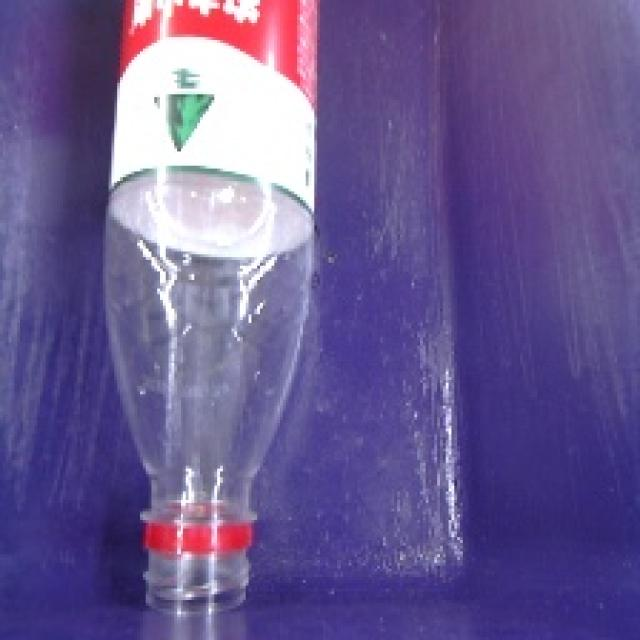plastic: (52, 0, 368, 623)
